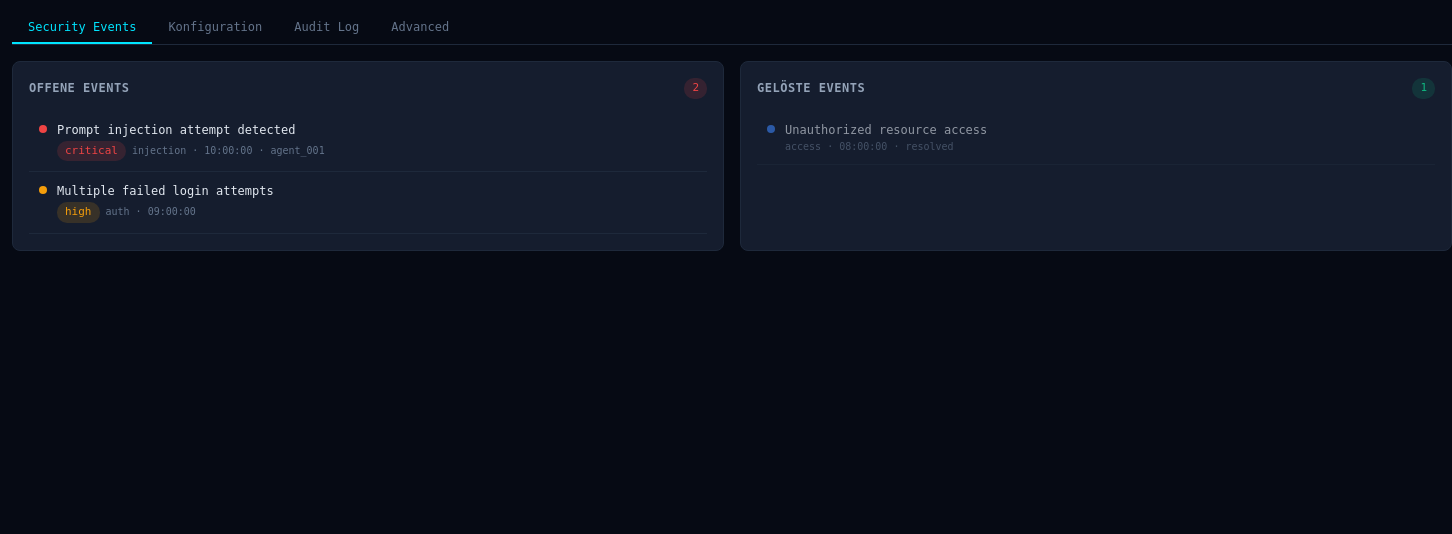
Scenario: SecurityView › switches to Konfiguration tab
Click the button "Konfiguration" at (215, 28), box left=152, top=12, right=278, bottom=44
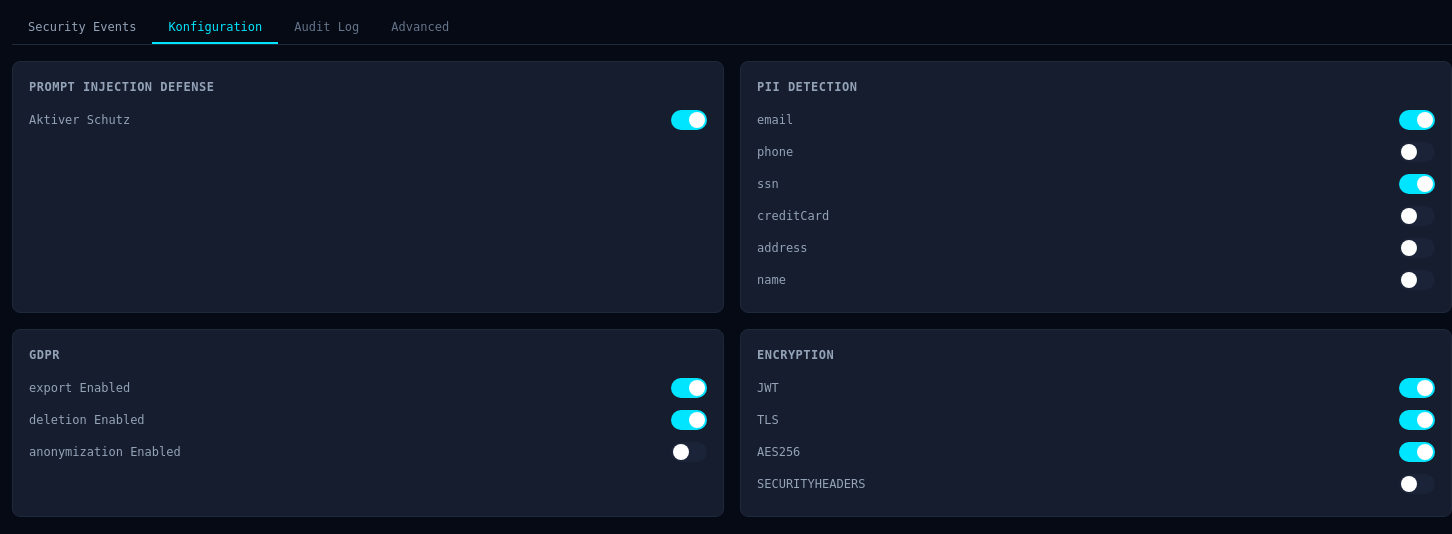
Expected: the text "Prompt Injection Defense" is shown, left=29, top=80, right=214, bottom=94
